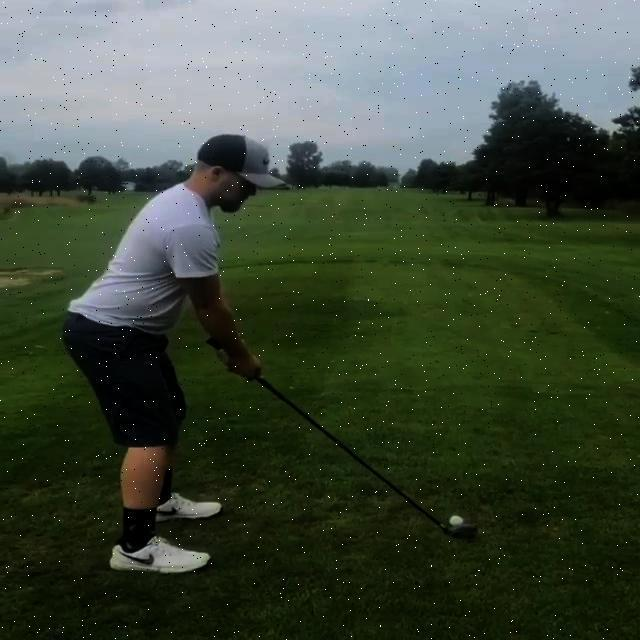ClubHead: (448, 525, 480, 539)
GolfBall: (450, 516, 464, 528)
